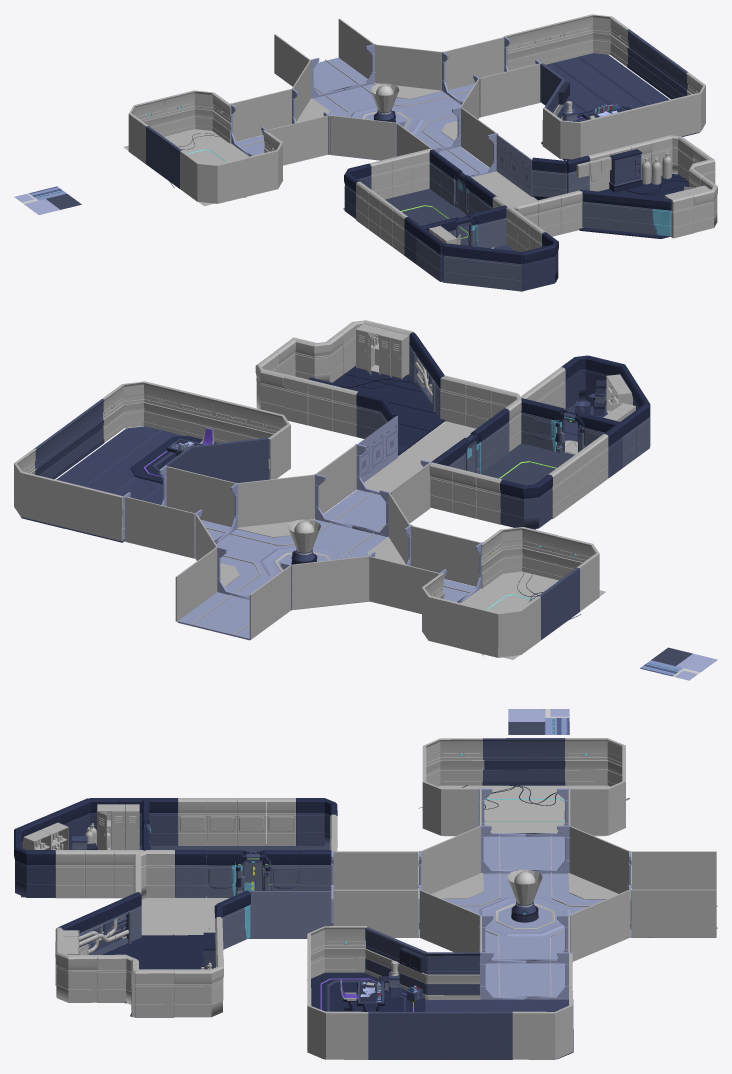
Rendered from whole.fbx.
3 views of the same model, one above another, from view 1: azimuth 30°, elevation 25°; view 2: azimuth 150°, elevation 25°; view 3: azimuth 270°, elevation 25° (orthographic). The views are drawn at different scales.
Parts seen in each view (by area): view 1: polySurface2718Shape, centerbase4:wallll:polySurface2442, polySurface2719Shape, polySurface2814 (×2), wall, pipes, pasted__polySurface2691, polySurface2817, polySurface2837, polySurface2844, polySurface2845, wall1_pasted__polySurface2682 (+43 smaller); view 2: centerbase4:wallll:polySurface2442, polySurface2718Shape, polySurface2814 (×2), polySurface2719Shape, wall, polySurface2841, base, polySurface2836, polySurface2816, wall4, pasted__polySurface2762, wall1_pasted__polySurface2682 (+44 smaller); view 3: centerbase4:wallll:polySurface2442, wall, centerbase4:wallll:polySurface2345, polySurface2718Shape, centerbase1:wallll:polySurfaceShape2133, polySurface2814 (×2), polySurface2843, trimsheet7, pasted__polySurface2750, pasted__pPlane11, polySurface2838, polySurface2842 (+37 smaller).
Boxes of the visible parts, x1,y1,x2,y2 form: polySurface2718Shape: (542, 72, 705, 159); centerbase4:wallll:polySurface2442: (236, 57, 537, 175); polySurface2719Shape: (504, 14, 629, 70); polySurface2814 (×2): (128, 90, 231, 163); wall: (650, 135, 717, 238); pipes: (579, 189, 671, 236); pasted__polySurface2691: (442, 243, 522, 291); polySurface2817: (180, 150, 247, 203); polySurface2837: (329, 115, 395, 160); polySurface2844: (375, 44, 441, 90); polySurface2845: (479, 63, 540, 117); wall1_pasted__polySurface2682: (369, 148, 431, 199); centerbase4:wallll:polySurface2442: (132, 489, 475, 640); polySurface2718Shape: (102, 381, 290, 479); polySurface2814 (×2): (421, 573, 540, 657); polySurface2719Shape: (14, 448, 123, 540); wall: (255, 320, 413, 414); polySurface2841: (291, 556, 368, 609); base: (333, 366, 445, 455); polySurface2836: (238, 474, 314, 527); polySurface2816: (481, 527, 558, 588); wall4: (284, 374, 357, 436); pasted__polySurface2762: (440, 375, 521, 451); wall1_pasted__polySurface2682: (429, 462, 502, 524); centerbase4:wallll:polySurface2442: (418, 836, 715, 996); wall: (55, 927, 223, 1017); centerbase4:wallll:polySurface2345: (368, 1011, 512, 1059); polySurface2718Shape: (307, 926, 368, 1059); centerbase1:wallll:polySurfaceShape2133: (178, 798, 295, 845); polySurface2814 (×2): (564, 738, 625, 835); polySurface2843: (631, 889, 716, 937); trimsheet7: (438, 785, 610, 836); pasted__polySurface2750: (55, 850, 143, 898); pasted__pPlane11: (248, 891, 331, 938); polySurface2838: (333, 889, 418, 937); polySurface2842: (631, 851, 716, 889).
Size of the model in its own units: 1169 by 76.03 by 984.
